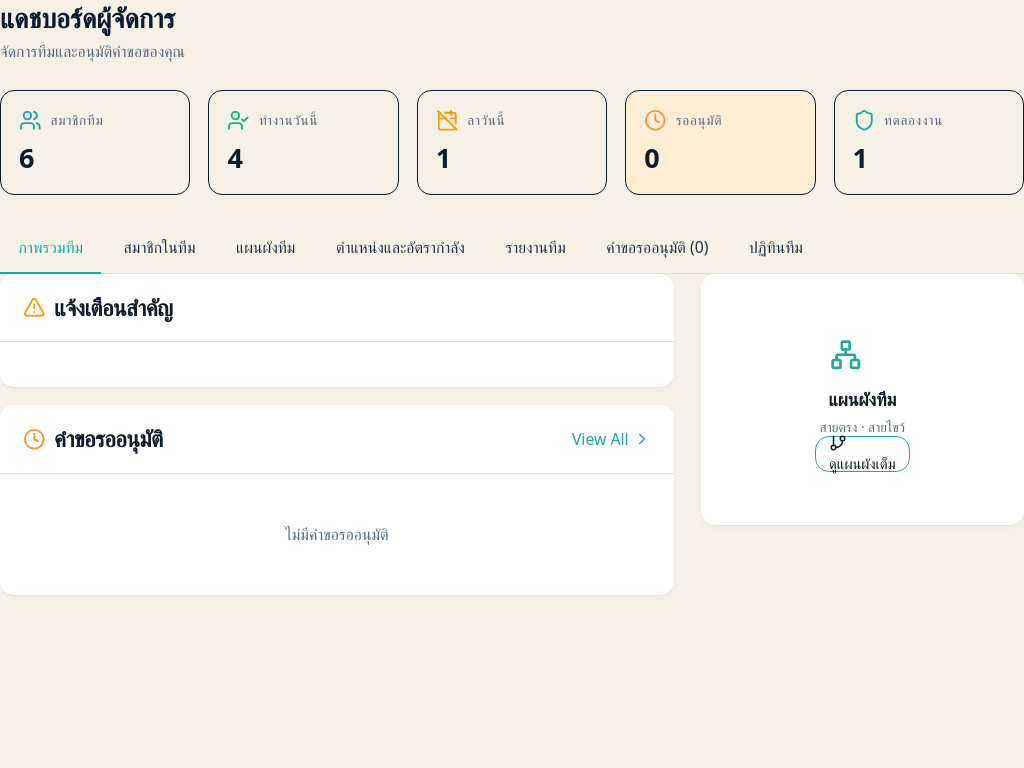
Test case: AC-4: date filter chips › click ทั้งหมด แสดง events ทุกรายการ (8 records)
Click the button "รายงานทีม" at (536, 248), box [487, 222, 584, 274]
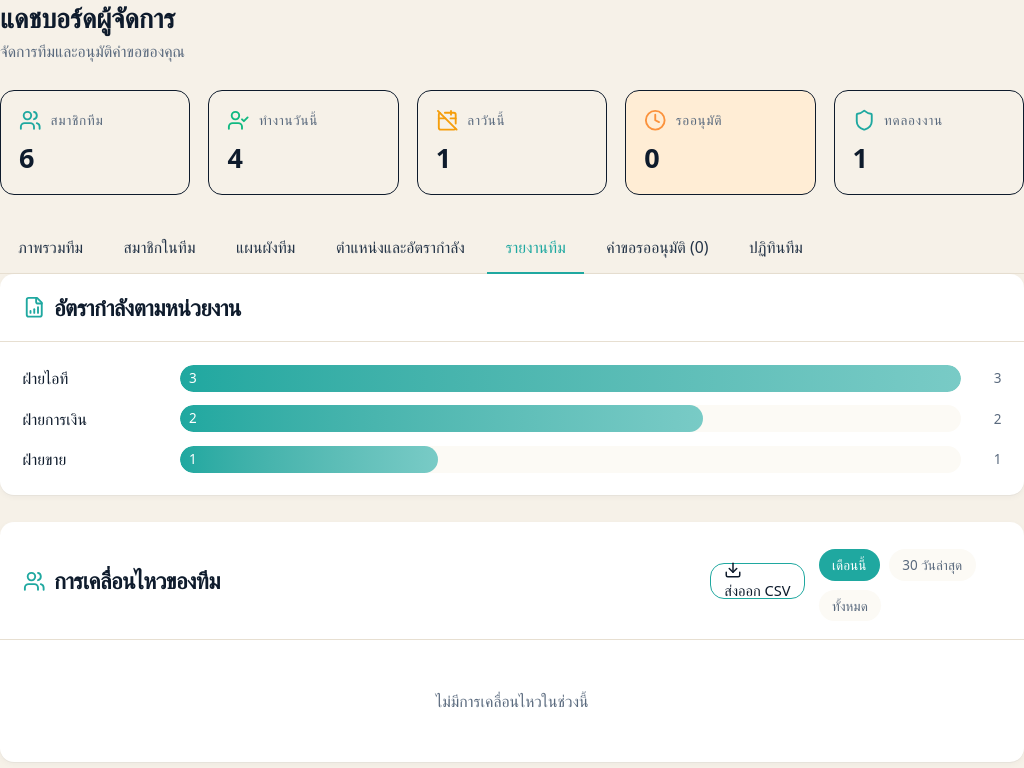
Click the button "ทั้งหมด" at (850, 606), box [819, 590, 881, 622]
(page scrolled)
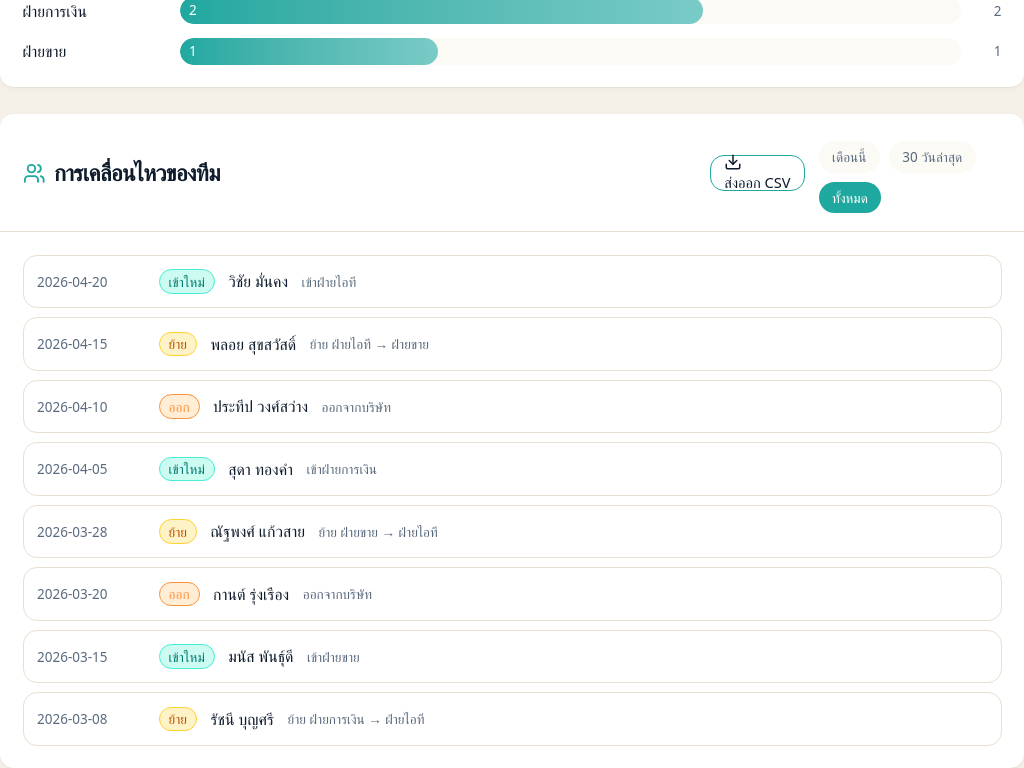
Expected: the text "วิชัย มั่นคง" is shown, [228, 270, 288, 293]
Expected: the text "มนัส พันธุ์ดี" is shown, [228, 645, 293, 668]
Expected: the text "รัชนี บุญศรี" is shown, [210, 708, 274, 730]
